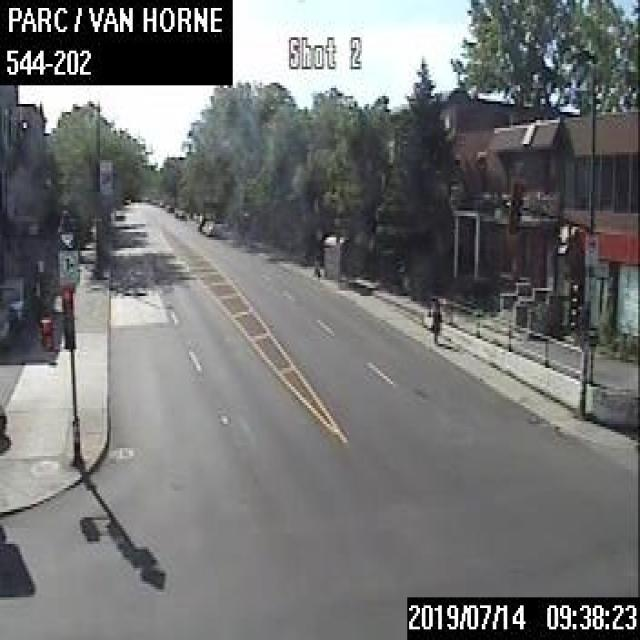pedestrian: (0, 403, 11, 448), (429, 304, 440, 344), (310, 251, 320, 283)
vehicle: (0, 274, 29, 322), (0, 301, 16, 346), (199, 217, 220, 235)
